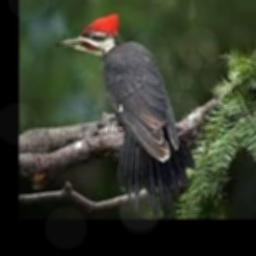Woodpecker: (57, 11, 193, 218)
